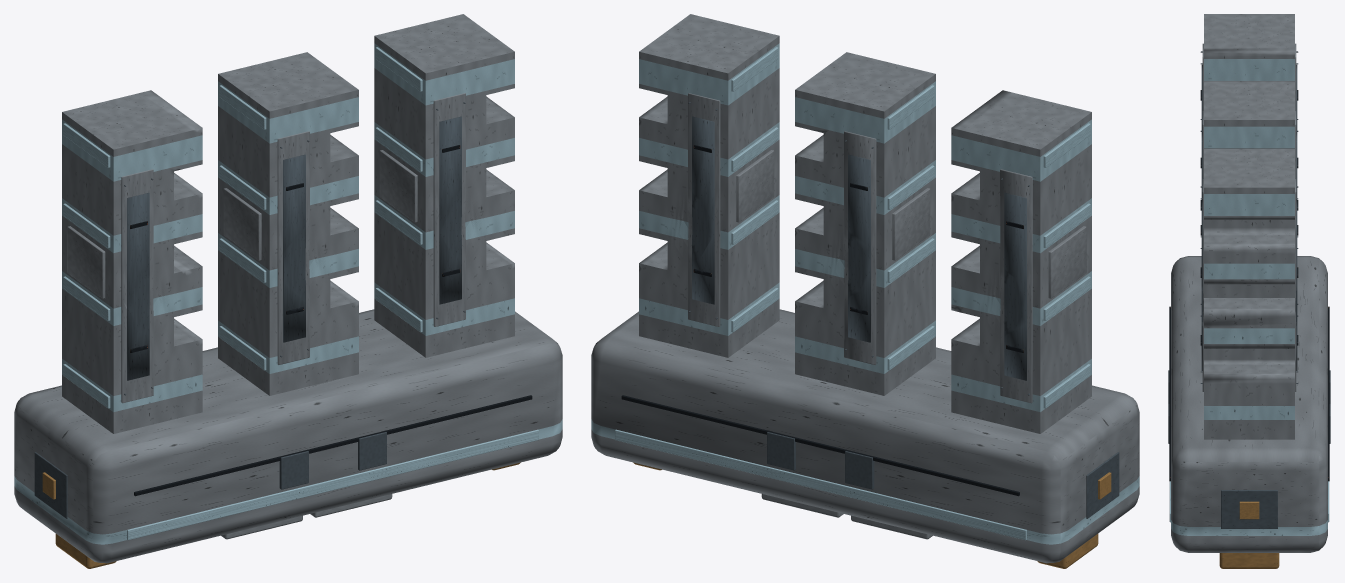
The picture shows the model from 3 angles, left to right: view 1: azimuth 30°, elevation 25°; view 2: azimuth 150°, elevation 25°; view 3: azimuth 270°, elevation 25°; orthographic projection. The views are drawn at different scales.
Visible parts, largest first — view 1: PrimaryHullAndArmour, ServiceAssemblies, RecessedMachinery; view 2: PrimaryHullAndArmour, ServiceAssemblies, RecessedMachinery; view 3: PrimaryHullAndArmour, ServiceAssemblies, RecessedMachinery.
Part boxes in pixels (bbox=[...]): PrimaryHullAndArmour: bbox=[42, 14, 538, 568]; ServiceAssemblies: bbox=[14, 309, 562, 563]; RecessedMachinery: bbox=[34, 116, 532, 518]; PrimaryHullAndArmour: bbox=[615, 14, 1111, 568]; ServiceAssemblies: bbox=[591, 309, 1139, 563]; RecessedMachinery: bbox=[621, 116, 1119, 518]; PrimaryHullAndArmour: bbox=[1168, 14, 1330, 568]; ServiceAssemblies: bbox=[1171, 256, 1327, 552]; RecessedMachinery: bbox=[1169, 64, 1329, 528].
Bounding box in the file's own units: 3.45 × 2.9 × 1.14.
Materials: 1 (1 with a texture image).
